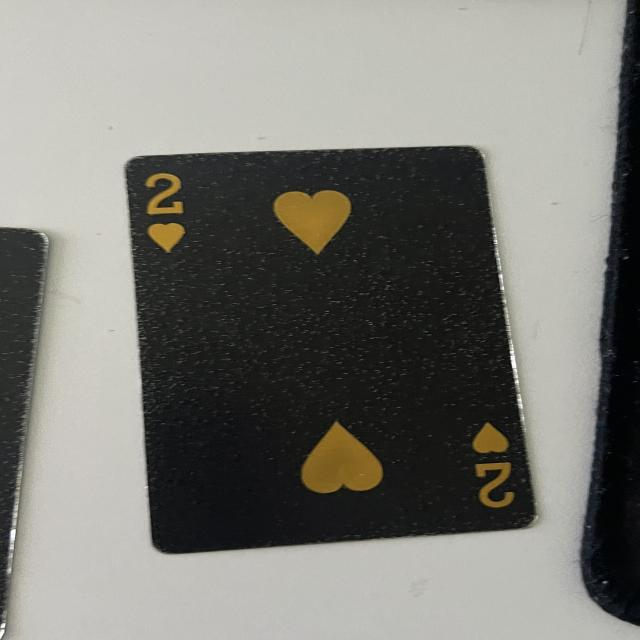2H: (464, 416, 529, 522), (128, 168, 199, 256)
